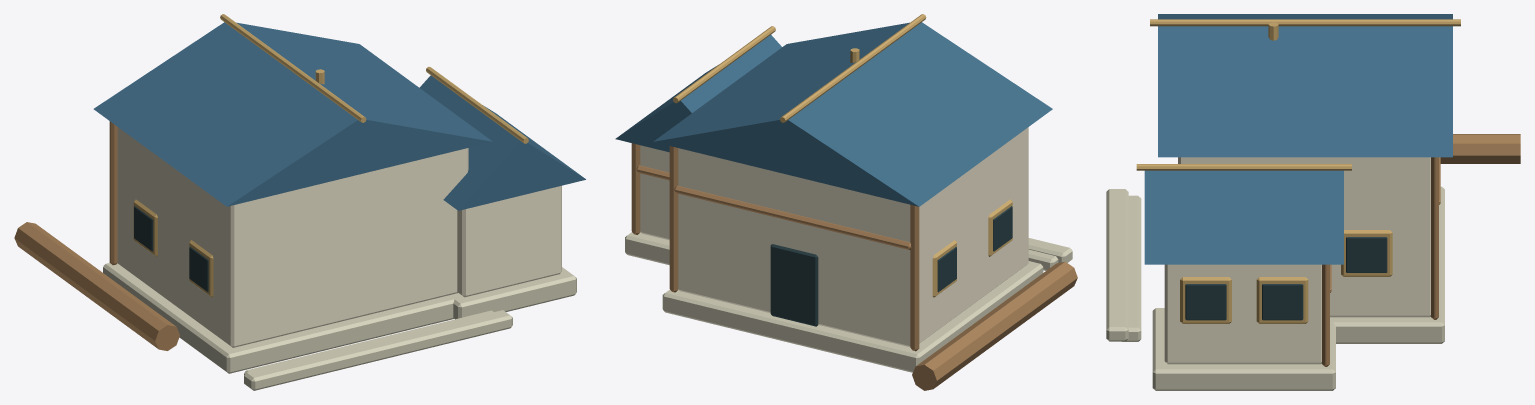
Rendered from level_16.glb.
3 views of the same model, side by side, from view 1: azimuth 30°, elevation 25°; view 2: azimuth 150°, elevation 25°; view 3: azimuth 270°, elevation 25° (orthographic). The views are drawn at different scales.
Visible parts, largest first — view 1: timber_yard — level 16; view 2: timber_yard — level 16; view 3: timber_yard — level 16.
Part boxes in pixels (<box>): timber_yard — level 16: <box>14,14,585,390</box>; timber_yard — level 16: <box>615,14,1077,390</box>; timber_yard — level 16: <box>1106,14,1520,390</box>.
Size of the model in its own units: 6.43 by 3.58 by 5.2.
